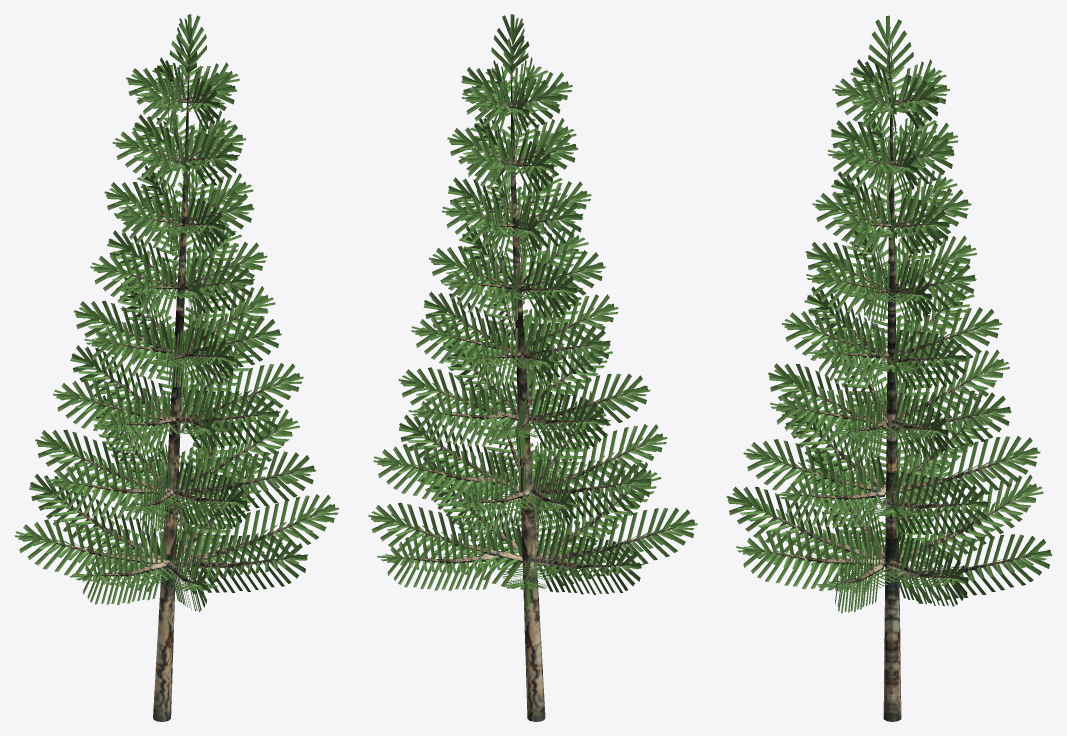
Rendered from tree_01.glb.
3 renders of one model, left to right at view 1: azimuth 30°, elevation 25°; view 2: azimuth 150°, elevation 25°; view 3: azimuth 270°, elevation 25°, orthographic. The views are drawn at different scales.
Visible parts, largest first — view 1: MainBuilding; view 2: MainBuilding; view 3: MainBuilding.
Boxes of the visible parts, x1,y1,x2,y2 form: MainBuilding: (14,14,339,721); MainBuilding: (368,14,697,721); MainBuilding: (726,15,1052,721).
Size of the model in its own units: 0.4369 by 1.07 by 0.4423.
1 material, 1 textured.
